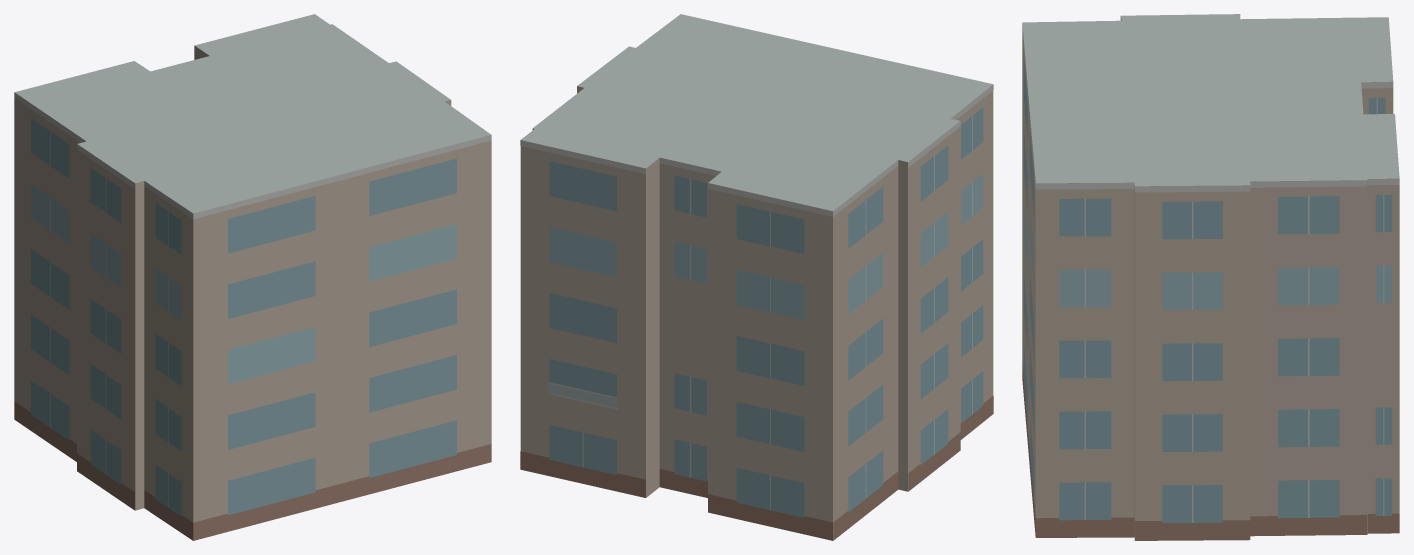
The model's file is survey-upis-32984497.glb.
3 views of the same model, side by side, from view 1: azimuth 30°, elevation 25°; view 2: azimuth 150°, elevation 25°; view 3: azimuth 270°, elevation 25° (orthographic). The views are drawn at different scales.
Parts seen in each view (by area): view 1: survey-upis-32984497.tmp; view 2: survey-upis-32984497.tmp; view 3: survey-upis-32984497.tmp.
Boxes of the visible parts, box(x1,y1,x2,y2) form: survey-upis-32984497.tmp: box(14, 14, 491, 540); survey-upis-32984497.tmp: box(520, 14, 993, 540); survey-upis-32984497.tmp: box(1022, 14, 1399, 540).
Size of the model in its own units: 14.5 by 13.91 by 13.42.
